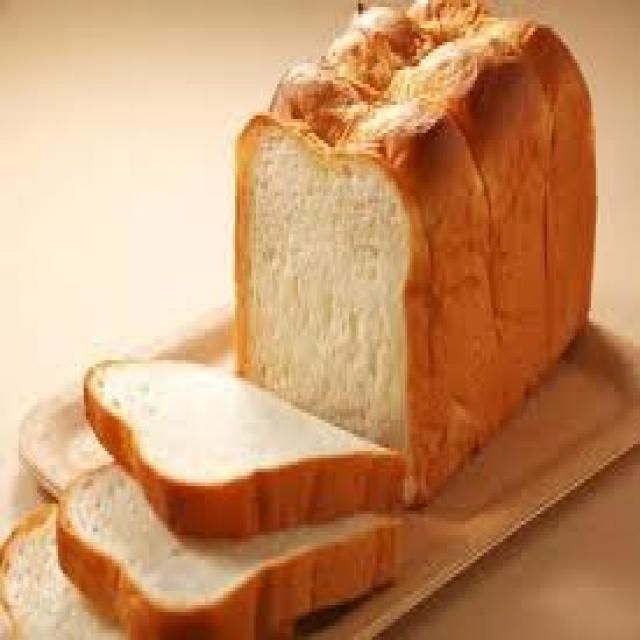organic waste: (228, 0, 596, 507), (81, 350, 405, 538), (56, 458, 393, 637), (0, 500, 135, 637)
